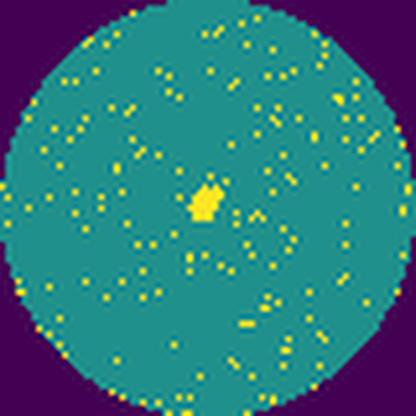Center: (188, 180, 228, 223)
